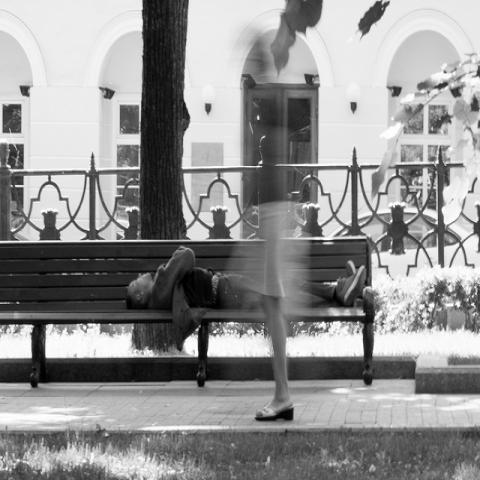car: (328, 208, 440, 282)
